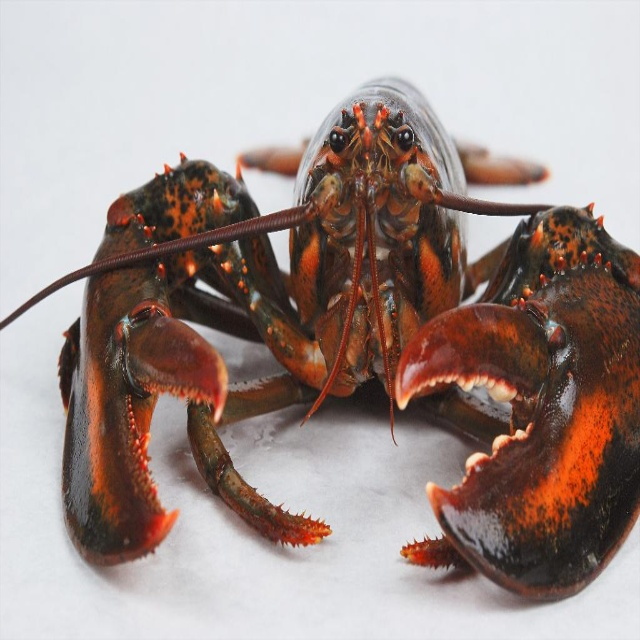Crab: (0, 71, 640, 613)
